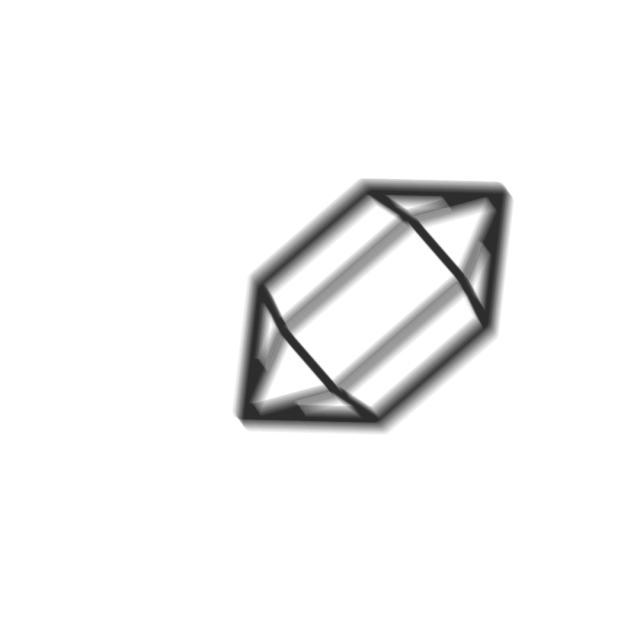crystal: (229, 172, 527, 442)
